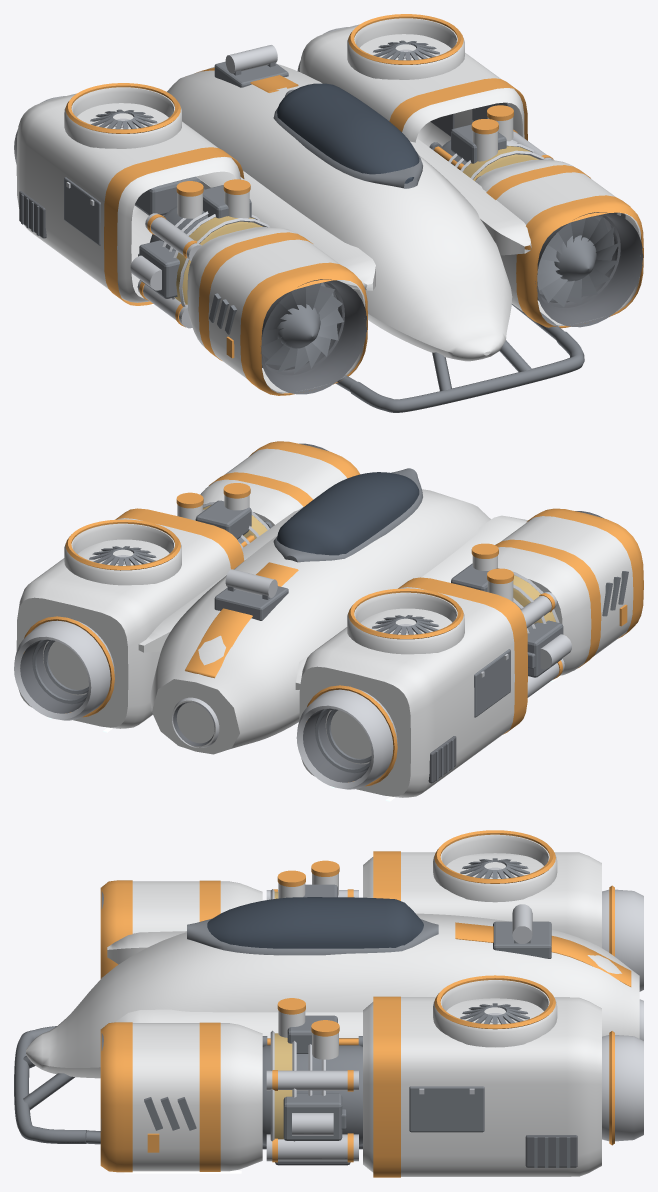
Rendered from brute.glb.
The picture shows the model from 3 angles, top to bottom: view 1: azimuth 30°, elevation 25°; view 2: azimuth 150°, elevation 25°; view 3: azimuth 270°, elevation 25°; orthographic projection. The views are drawn at different scales.
Visible parts, largest first — view 1: cabin, rear_house, front_house, front_rim, front_duct, canopy, front_fan, shoulder, lift_collar, rear_rim, bumper, front_band (+20 smaller); view 2: rear_house, cabin, front_house, nozzle, lift_collar, canopy, rear_rim, shoulder, nozzle_in, front_rim, front_band, lift_rim (+19 smaller); view 3: rear_house, cabin, front_house, canopy, lift_collar, front_rim, nozzle, rear_rim, shoulder, front_band, access_panel, lift_rim (+20 smaller).
Boxes of the visible parts, <box> form: cabin: <box>167,64,512,361</box>; rear_house: <box>16,24,524,302</box>; front_house: <box>187,159,641,393</box>; front_rim: <box>240,195,643,395</box>; front_duct: <box>260,212,643,394</box>; canopy: <box>277,83,419,183</box>; front_fan: <box>261,215,619,373</box>; shoulder: <box>196,80,531,290</box>; lift_collar: <box>64,18,464,148</box>; rear_rim: <box>104,78,527,305</box>; bumper: <box>349,331,584,412</box>; front_band: <box>198,165,590,360</box>; rear_house: <box>16,518,514,797</box>; cabin: <box>150,489,490,754</box>; front_house: <box>200,448,633,675</box>; nozzle: <box>14,620,397,789</box>; lift_collar: <box>64,523,464,654</box>; canopy: <box>277,472,419,555</box>; rear_rim: <box>115,508,527,734</box>; shoulder: <box>138,507,527,689</box>; nozzle_in: <box>20,639,371,782</box>; front_rim: <box>249,441,643,638</box>; front_band: <box>209,472,601,668</box>; lift_rim: <box>65,519,463,639</box>; rear_house: <box>363,852,601,1176</box>; cabin: <box>26,913,639,1078</box>; front_house: <box>132,881,262,1171</box>; canopy: <box>207,897,423,948</box>; lift_collar: <box>433,834,557,1047</box>; front_rim: <box>100,880,132,1172</box>; nozzle: <box>602,889,643,1141</box>; rear_rim: <box>373,851,400,1177</box>; shoulder: <box>107,931,362,1038</box>; front_band: <box>199,880,220,1171</box>; access_panel: <box>409,1086,484,1132</box>; lift_rim: <box>434,830,555,1029</box>.
Size of the model in its own units: 6.11 by 2.48 by 7.51.
